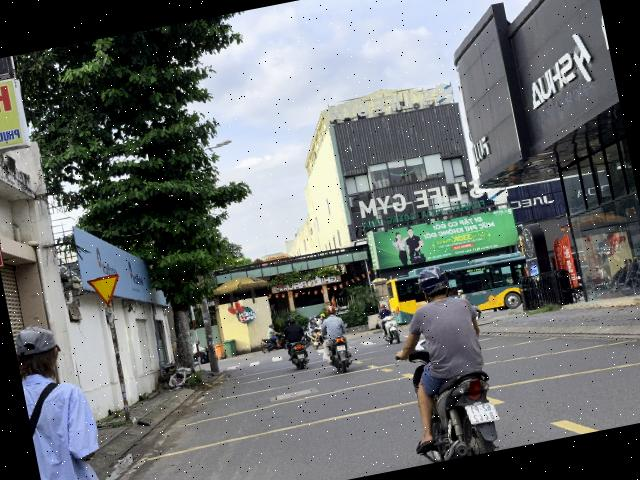giao-nhau-voi-duong-uu-tien: (85, 272, 124, 308)
